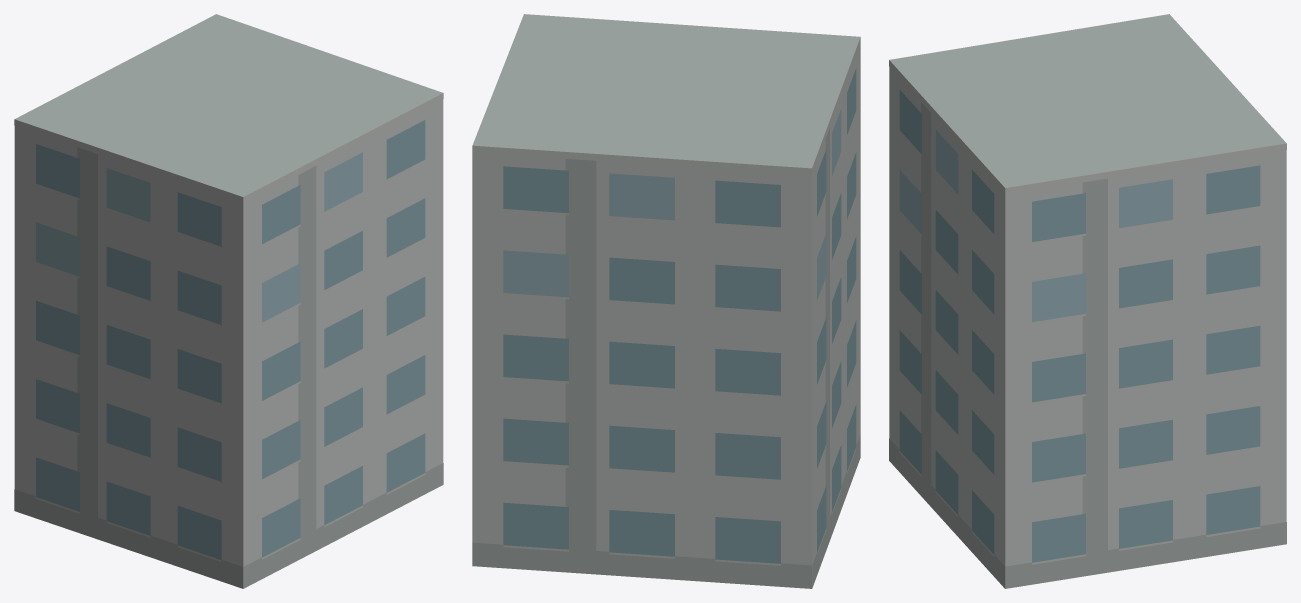
File: survey-upis-32952322.glb
3 renders of one model, left to right at view 1: azimuth 30°, elevation 25°; view 2: azimuth 150°, elevation 25°; view 3: azimuth 270°, elevation 25°, orthographic. The views are drawn at different scales.
Parts seen in each view (by area): view 1: survey-upis-32952322.tmp; view 2: survey-upis-32952322.tmp; view 3: survey-upis-32952322.tmp.
Boxes of the visible parts, bbox=[...] form: survey-upis-32952322.tmp: bbox=[14, 14, 443, 588]; survey-upis-32952322.tmp: bbox=[472, 14, 860, 588]; survey-upis-32952322.tmp: bbox=[889, 14, 1286, 588].
Size of the model in its own units: 13.61 by 14.6 by 13.14.
